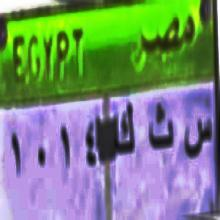0: (32, 129, 50, 182)
1: (7, 123, 26, 188), (57, 123, 74, 174)
4: (79, 113, 102, 184)
kaaf: (112, 94, 137, 162)
seen: (181, 105, 215, 167)
thaa: (147, 100, 176, 155)
